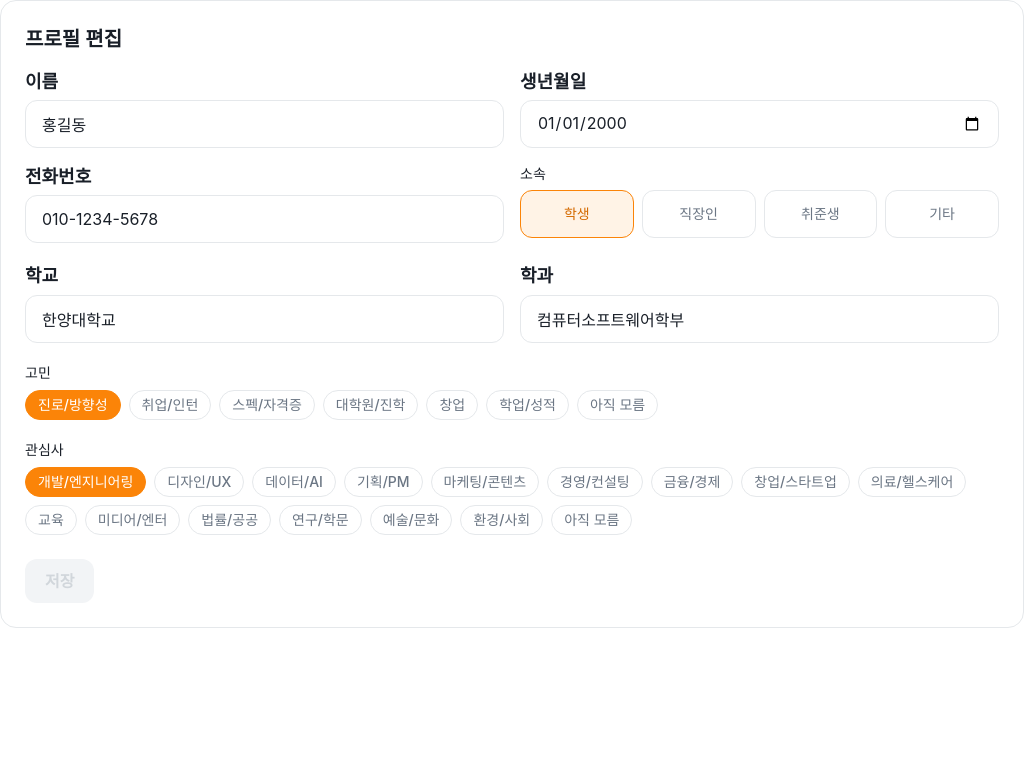
ProfileEditForm — 저장 성공은 동기화 실패로 뒤집히지 않는다(FRT-294) › 저장 요청 중에 더 고친 값은 저장이 끝나도 변경 상태로 남는다
Click the button "취업/인턴".
click(170, 405)  # box [129, 390, 211, 420]
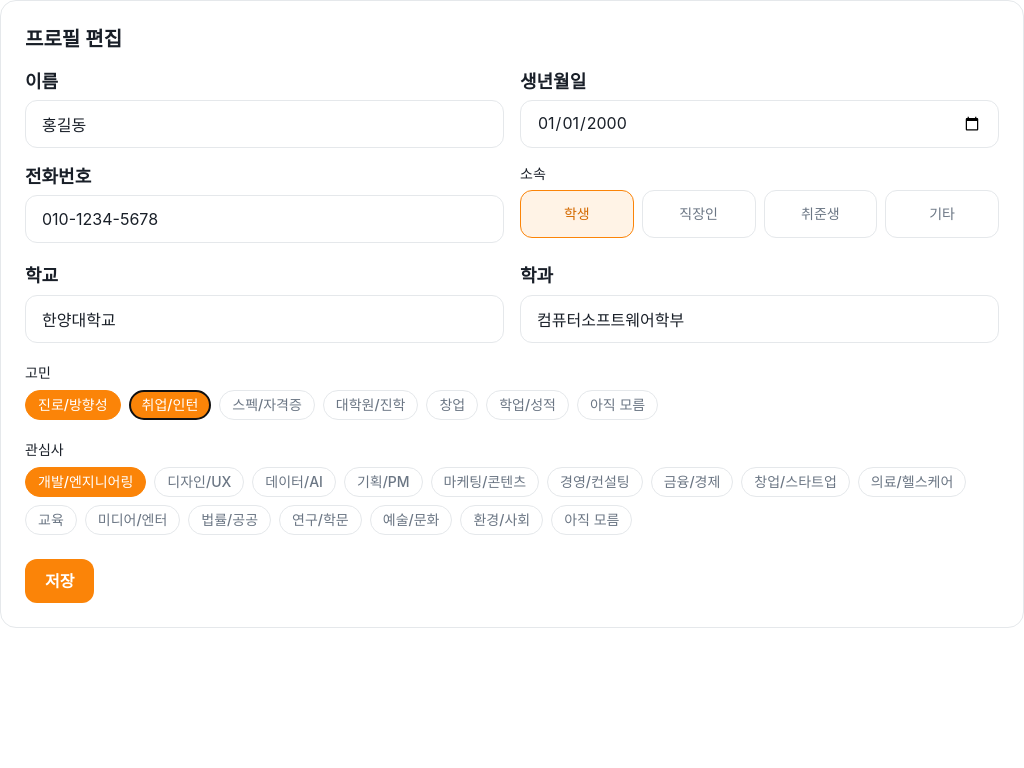
Click the button "저장".
click(60, 580)  # box [25, 558, 94, 602]
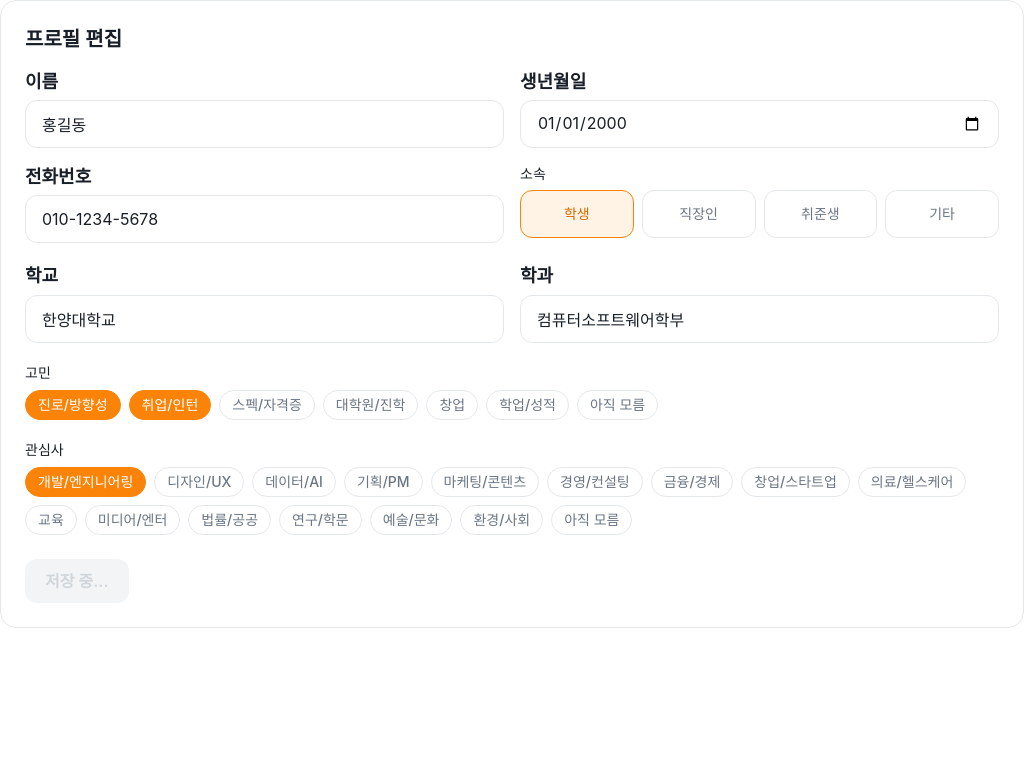
저장 응답을 기다리는 동안 하나 더 고친다 — 이 변경분은 아직 저장되지 않았다.
Click the button "디자인/UX".
click(199, 482)  # box [154, 467, 244, 497]
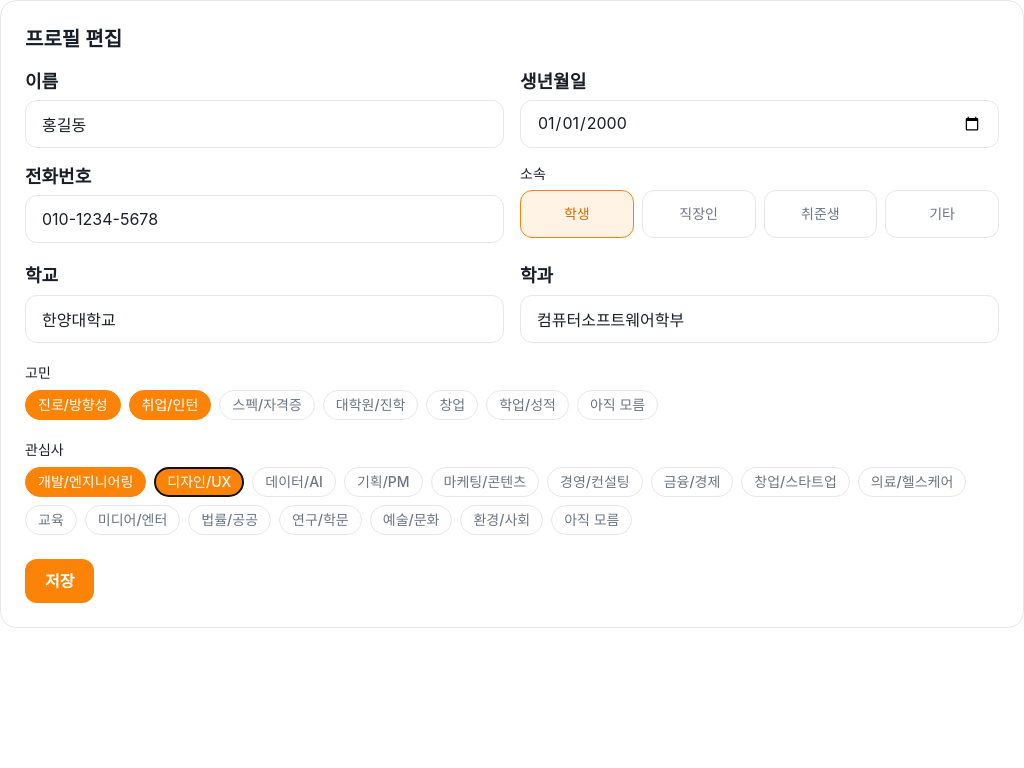
Now the button "저장" is enabled, box [25, 558, 94, 602]
